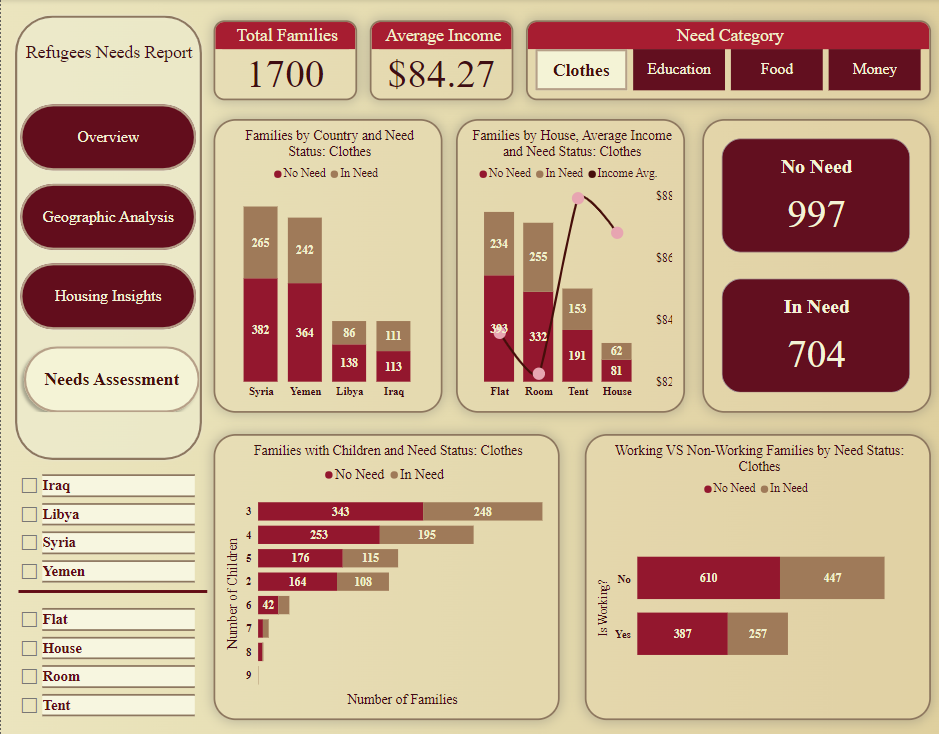

Layout of this report page (visuals, bound fields, positions):
{"tool":"powerbi","page":{"name":"Needs Assessment","canvas":[1280,1000],"ordinal":3},"visuals":[{"type":"card","title":"Average Income","fields":{"Values":["Avg(Needs.Income)"]},"box":[501,28.9,195.3,108.7],"z":0},{"type":"card","title":"Total Families","fields":{"Values":["Count(Needs.Name)"]},"box":[288.7,28.9,195.3,108.7],"z":1000},{"type":"shape","box":[15.3,18.7,261.6,611.4],"z":2000},{"type":"columnChart","fields":{"Y":["Measures_.S_No","Measures_.S_Yes"],"Category":["Needs.Country"]},"box":[288.7,163,310.8,399.1],"z":3000},{"type":"lineStackedColumnComboChart","fields":{"Y":["Measures_.S_No","Measures_.S_Yes"],"Y2":["Avg(Needs.Income)"],"Category":["Needs.House"]},"box":[618,163,310.8,399.1],"z":4000},{"type":"cardVisual","title":"Working VS Non-Working (Families)","fields":{"Data":["Measures_.S_No","Measures_.S_Yes"]},"box":[952.8,163,310.8,399.1],"z":5000},{"type":"barChart","fields":{"Category":["Needs.Under 18 "],"Y":["Measures_.S_No","Measures_.S_Yes"]},"box":[288.7,591,470,388.9],"z":6000},{"type":"barChart","fields":{"Category":["Needs.Is Working?"],"Y":["Measures_.S_No","Measures_.S_Yes"]},"box":[793,591,470,388.9],"z":7000},{"type":"shape","box":[23.8,798,256.5,13.6],"z":8000},{"type":"textbox","box":[22.1,54.3,249.7,42.5],"z":9000},{"type":"pageNavigator","box":[22.1,118.9,248,443.3],"z":10000},{"type":"slicer","fields":{"Values":["Needs.Country"]},"box":[15.3,636.9,253.1,168.1],"z":11000},{"type":"slicer","fields":{"Values":["Needs.House"]},"box":[15,818,253,168],"z":12000},{"type":"advancedSlicerVisual","title":"Need Category","fields":{"Values":["Needs_Types.Values"]},"box":[713.3,28.9,550.3,108.7],"z":13000}]}

Visuals, with their boxes in screenshot pixels (x1, y1, x2, y2), scaled from the page's 1280x1000 canvas onto the 939x734 screenshot:
"Average Income" card: 368, 21, 511, 101
"Total Families" card: 212, 21, 355, 101
shape: 11, 14, 203, 462
columnChart - Measures_.S_No x Measures_.S_Yes: 212, 120, 440, 413
lineStackedColumnComboChart - Measures_.S_No x Measures_.S_Yes: 453, 120, 681, 413
"Working VS Non-Working (Families)" cardVisual: 699, 120, 927, 413
barChart - Needs.Under 18  x Measures_.S_No: 212, 434, 557, 719
barChart - Needs.Is Working? x Measures_.S_No: 582, 434, 927, 719
shape: 17, 586, 206, 596
textbox: 16, 40, 199, 71
pageNavigator: 16, 87, 198, 413
slicer - Needs.Country: 11, 467, 197, 591
slicer - Needs.House: 11, 600, 197, 724
"Need Category" advancedSlicerVisual: 523, 21, 927, 101
